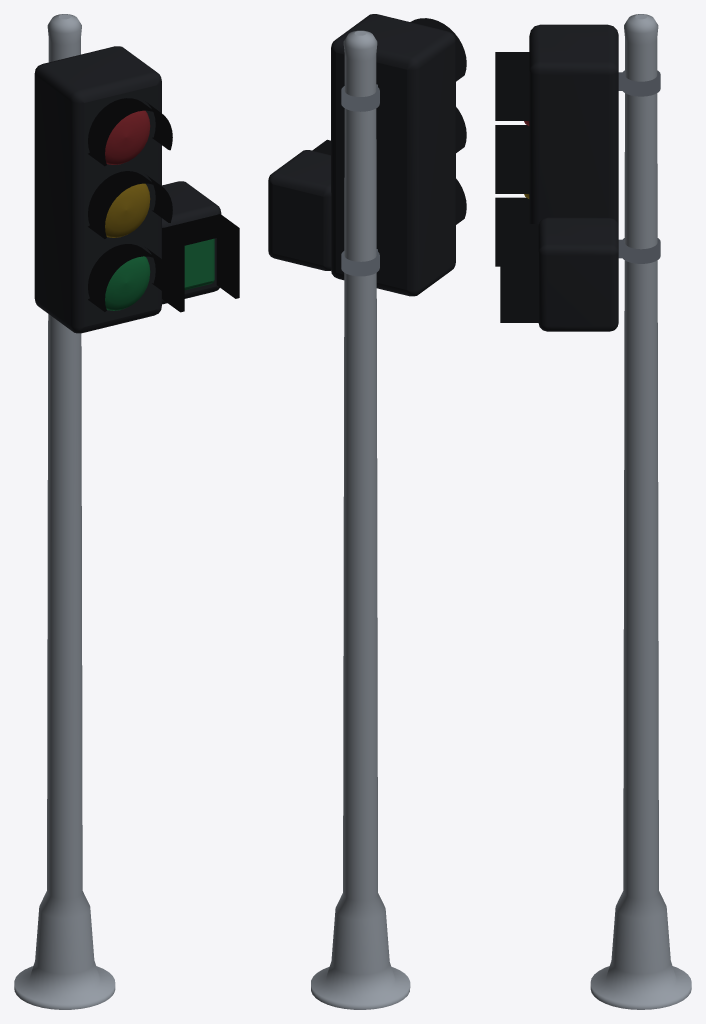
Rendered from traffic-light.glb.
3 renders of one model, left to right at view 1: azimuth 30°, elevation 25°; view 2: azimuth 150°, elevation 25°; view 3: azimuth 270°, elevation 25°, orthographic.
Parts seen in each view (by area): view 1: pole, housing, visors, aux_visor, aux_housing, lamp_green, lamp_red, lamp_yellow, lamp_aux; view 2: pole, housing, aux_housing, visors, brackets; view 3: pole, housing, aux_housing, visors, aux_visor, brackets.
Boxes of the visible parts, x1,y1,x2,y2 form: pole: (14, 14, 115, 1009); housing: (34, 46, 161, 333); visors: (88, 98, 172, 311); aux_visor: (162, 214, 239, 312); aux_housing: (162, 181, 221, 304); lamp_green: (105, 256, 150, 310); lamp_red: (105, 110, 150, 164); lamp_yellow: (105, 183, 150, 237); lamp_aux: (184, 238, 214, 290); pole: (311, 30, 410, 1009); housing: (331, 14, 455, 296); aux_housing: (268, 150, 331, 270); visors: (410, 18, 466, 224); brackets: (341, 84, 379, 276); pole: (590, 14, 691, 1009); housing: (529, 24, 618, 225); aux_housing: (538, 217, 618, 331); visors: (495, 52, 529, 266); aux_visor: (500, 224, 538, 322); brackets: (618, 70, 660, 263).
Bounding box in the file's own units: 0.595 × 3.6 × 0.66.
